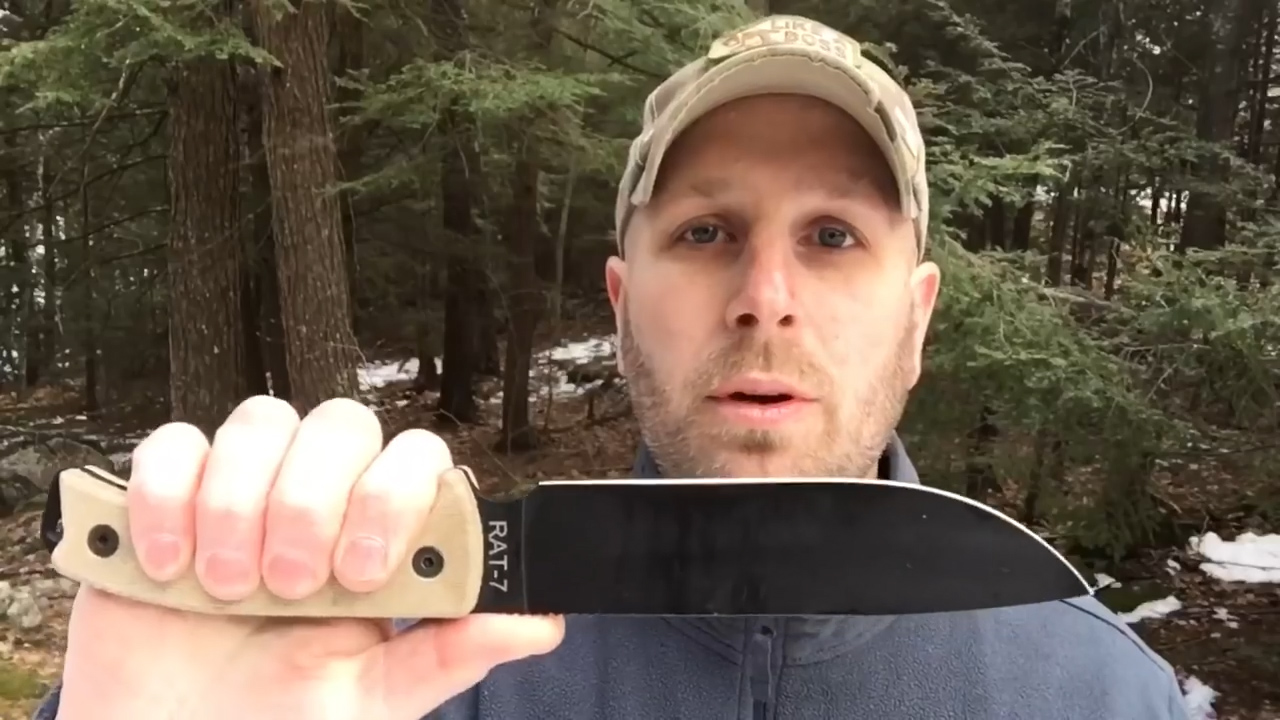knife: (202, 386, 1110, 655)
